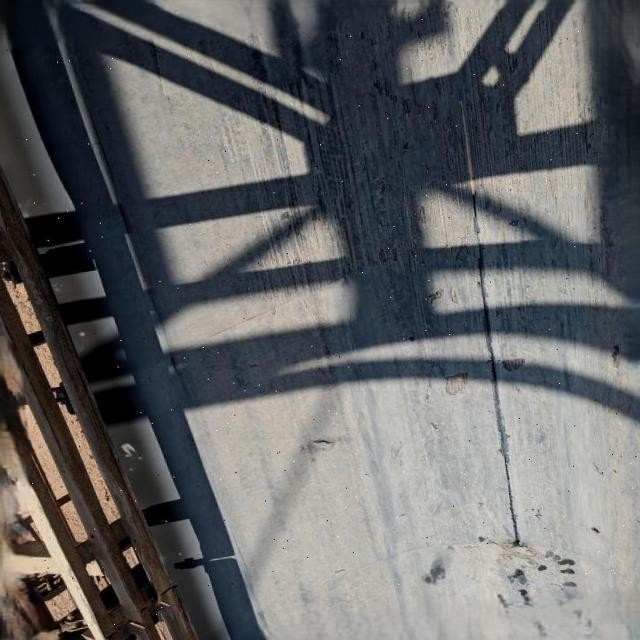Impact Damage: (440, 369, 475, 399), (495, 354, 529, 376)
Tear: (453, 92, 526, 550), (308, 436, 336, 454), (242, 359, 264, 372)
